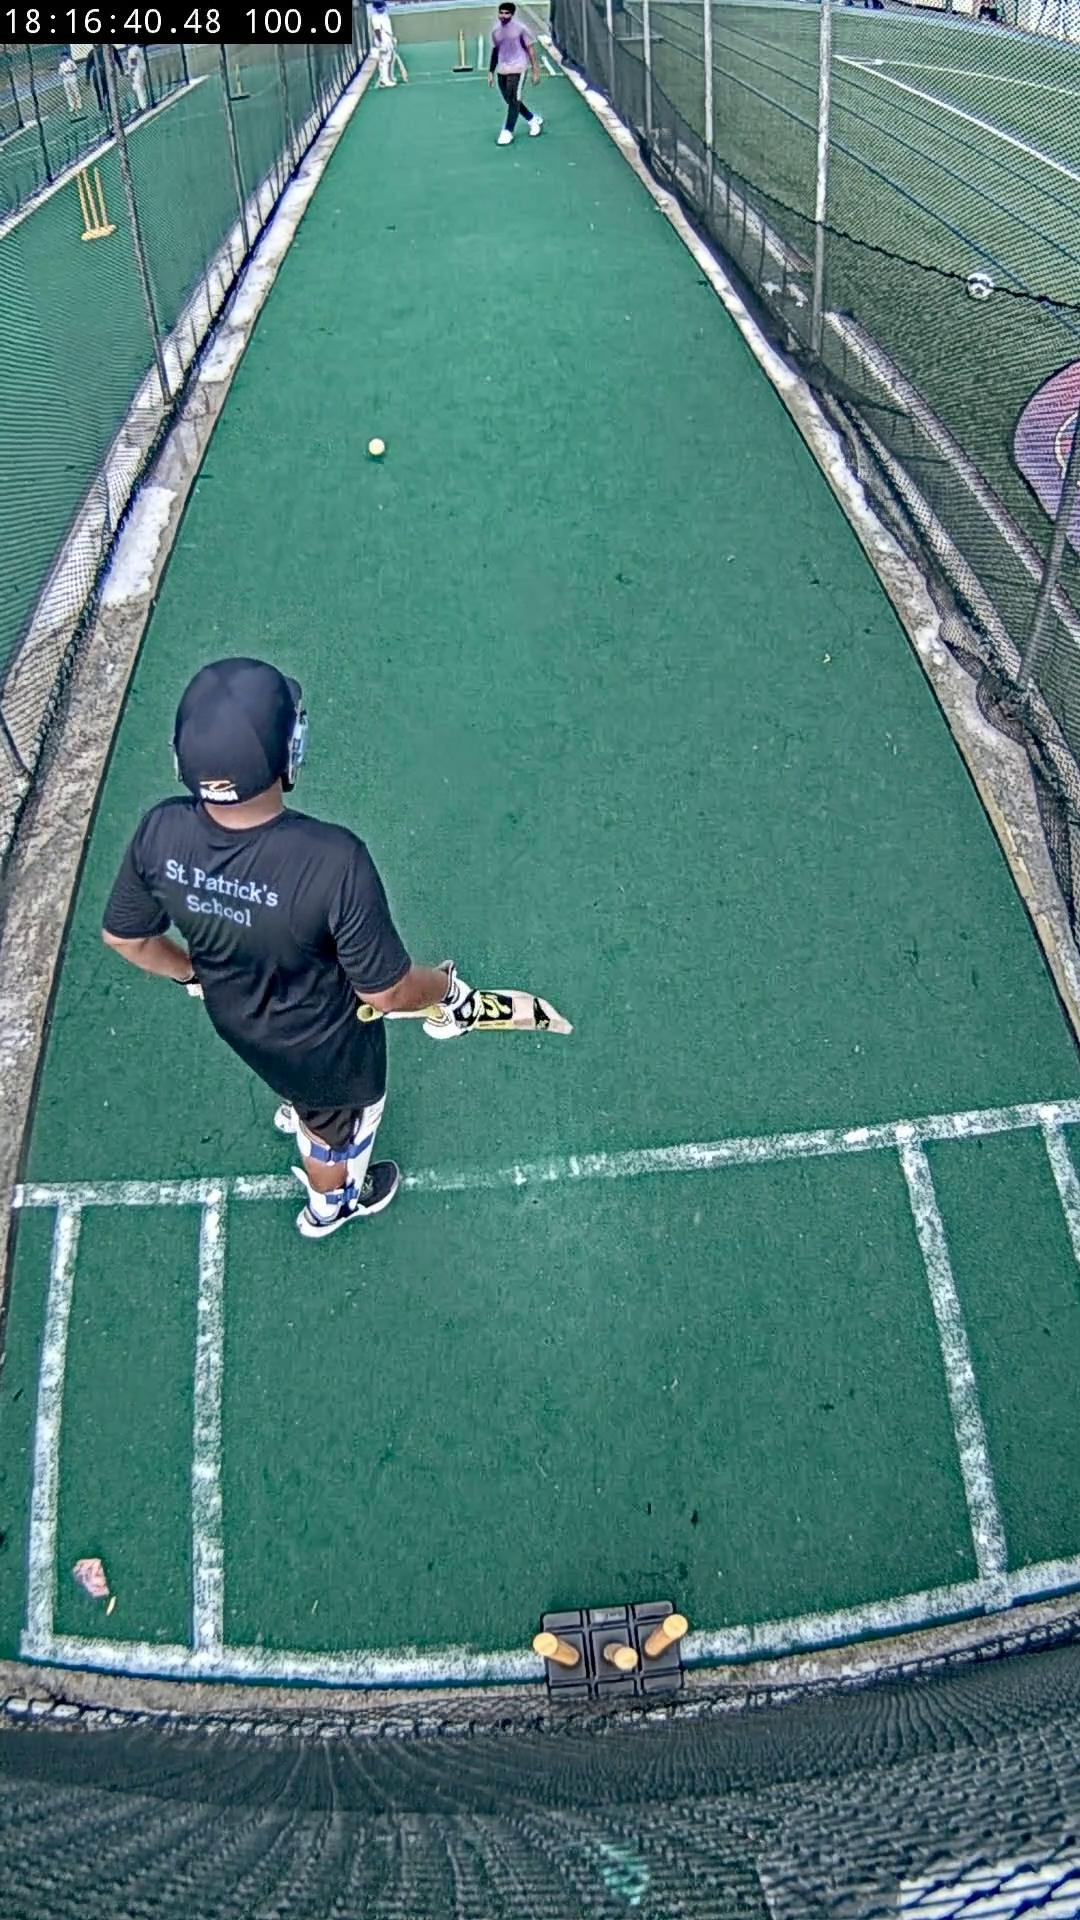ball: (368, 439, 386, 458)
bat: (390, 964, 574, 1039)
helmet: (173, 657, 301, 803)
stumps: (533, 1601, 686, 1702)
